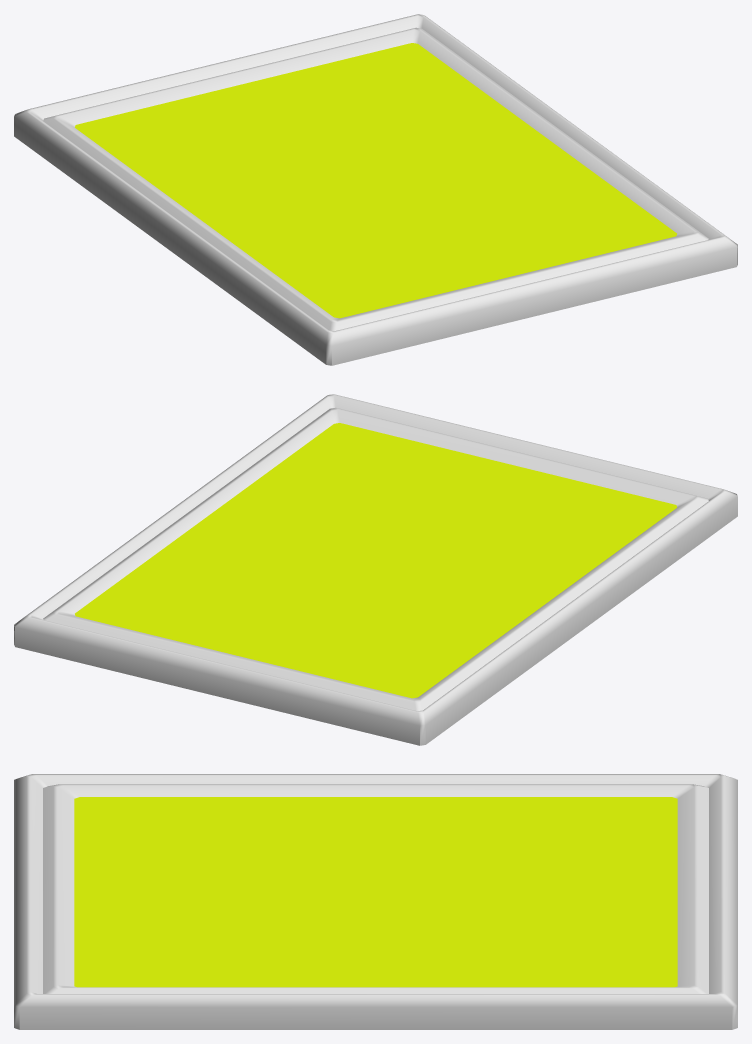
File: PaintingE.fbx
3 renders of one model, top to bottom at view 1: azimuth 30°, elevation 25°; view 2: azimuth 150°, elevation 25°; view 3: azimuth 270°, elevation 25°, orthographic. The views are drawn at different scales.
Visible parts, largest first — view 1: PaintingE; view 2: PaintingE; view 3: PaintingE.
Boxes of the visible parts, x1=… form: PaintingE: x1=14, y1=14, x2=737, y2=365; PaintingE: x1=14, y1=394, x2=737, y2=745; PaintingE: x1=14, y1=774, x2=737, y2=1029.
Bounding box in the file's own units: 53.98 × 3.36 × 71.97.
